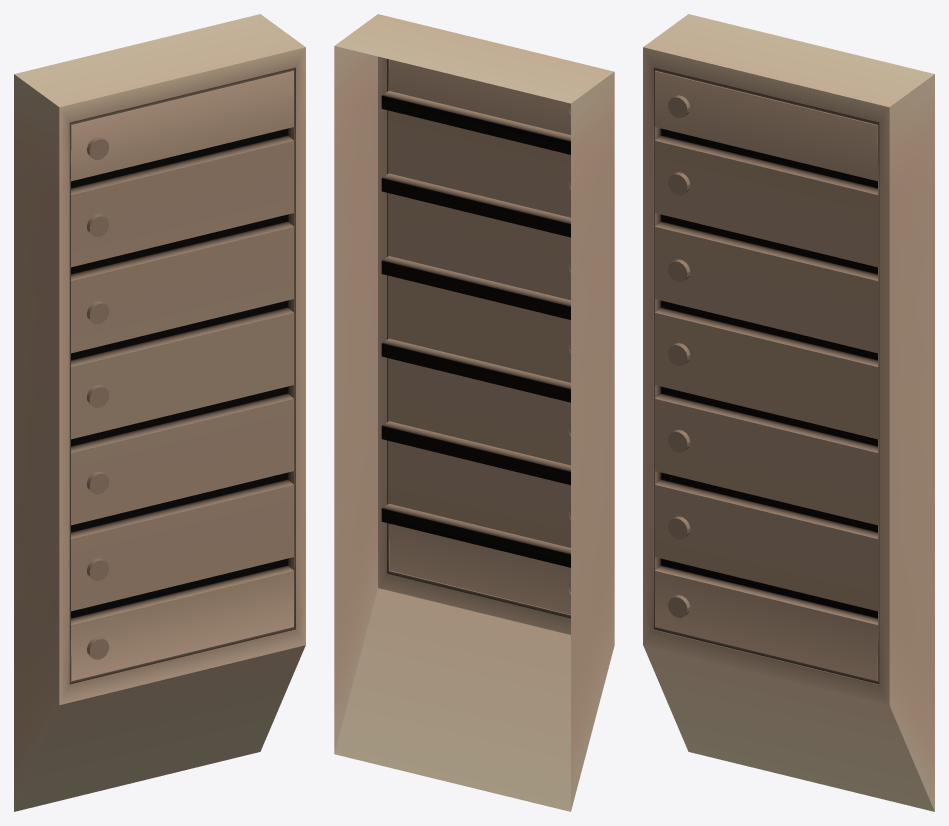
Rendered from Mail.fbx.
3 renders of one model, left to right at view 1: azimuth 30°, elevation 25°; view 2: azimuth 150°, elevation 25°; view 3: azimuth 330°, elevation 25°, orthographic. The views are drawn at different scales.
Visible parts, largest first — view 1: Cube.151; view 2: Cube.151; view 3: Cube.151.
Part boxes in pixels (x1=…): Cube.151: x1=14, y1=14, x2=305, y2=811; Cube.151: x1=334, y1=14, x2=614, y2=811; Cube.151: x1=643, y1=14, x2=934, y2=811.
Bounding box in the file's own units: 0.8457 × 0.286 × 2.42.
